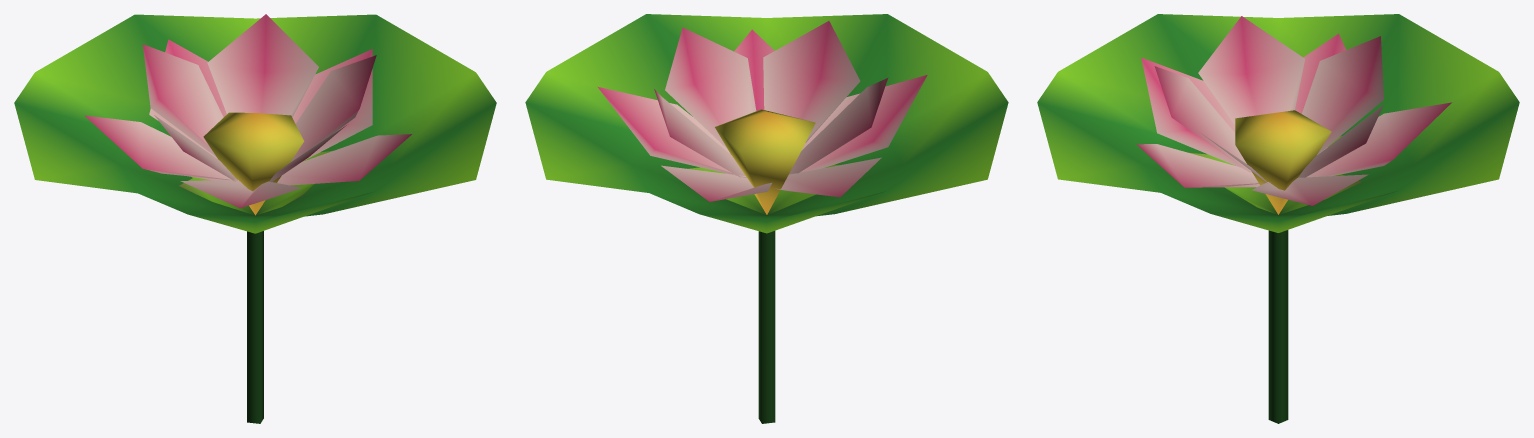
Rendered from water_lily.glb.
The picture shows the model from 3 angles, left to right: view 1: azimuth 30°, elevation 25°; view 2: azimuth 150°, elevation 25°; view 3: azimuth 270°, elevation 25°; orthographic projection.
Visible parts, largest first — view 1: Circle, Plane.004, Plane; view 2: Circle, Plane.004, Plane; view 3: Circle, Plane.004, Plane.
Part boxes in pixels (bbox=[...]): Circle: bbox=[14, 14, 496, 233]; Plane.004: bbox=[84, 14, 411, 215]; Plane: bbox=[247, 231, 263, 423]; Circle: bbox=[525, 14, 1008, 233]; Plane.004: bbox=[597, 21, 927, 215]; Plane: bbox=[758, 231, 775, 423]; Circle: bbox=[1037, 14, 1519, 232]; Plane.004: bbox=[1136, 16, 1451, 214]; Plane: bbox=[1268, 230, 1288, 423].
Bounding box in the file's own units: 2.11 × 1.62 × 2.
